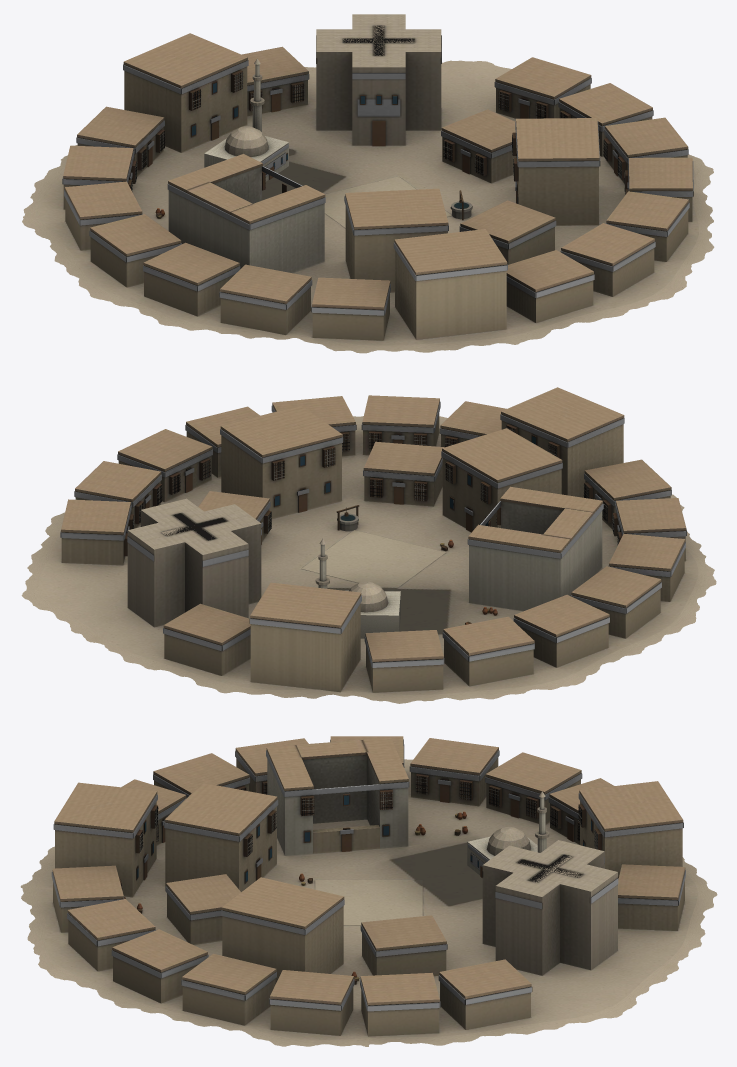
Rendered from kingdoms-town-big-a-nile.glb.
3 renders of one model, top to bottom at view 1: azimuth 30°, elevation 25°; view 2: azimuth 150°, elevation 25°; view 3: azimuth 270°, elevation 25°, orthographic.
Visible parts, largest first — view 1: LOD0; view 2: LOD0; view 3: LOD0.
Boxes of the visible parts, x1,y1,x2,y2 form: LOD0: (22, 14, 714, 353); LOD0: (21, 387, 716, 703); LOD0: (20, 736, 717, 1046).
Size of what is drawn, in the model's own units: 7.94 by 1.2 by 7.92.
3 materials, 3 textured.
